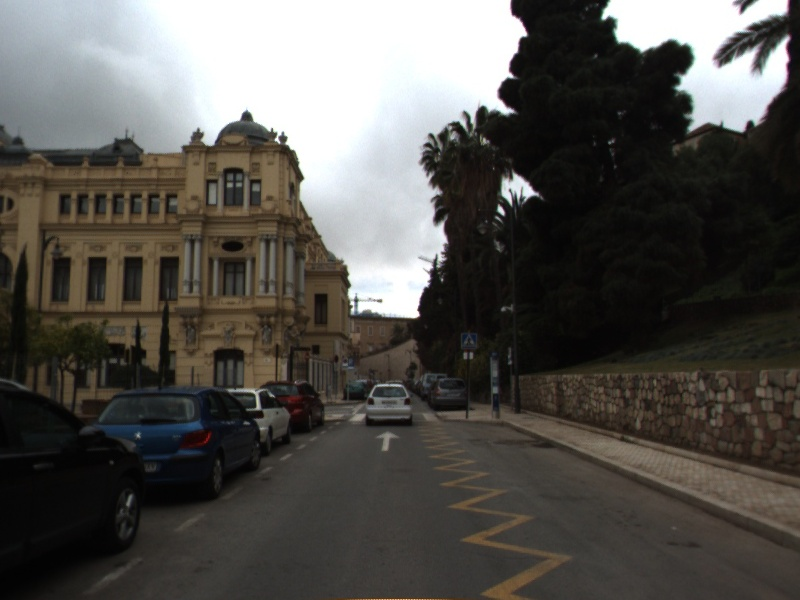STRAIGHT: (374, 429, 402, 452)
